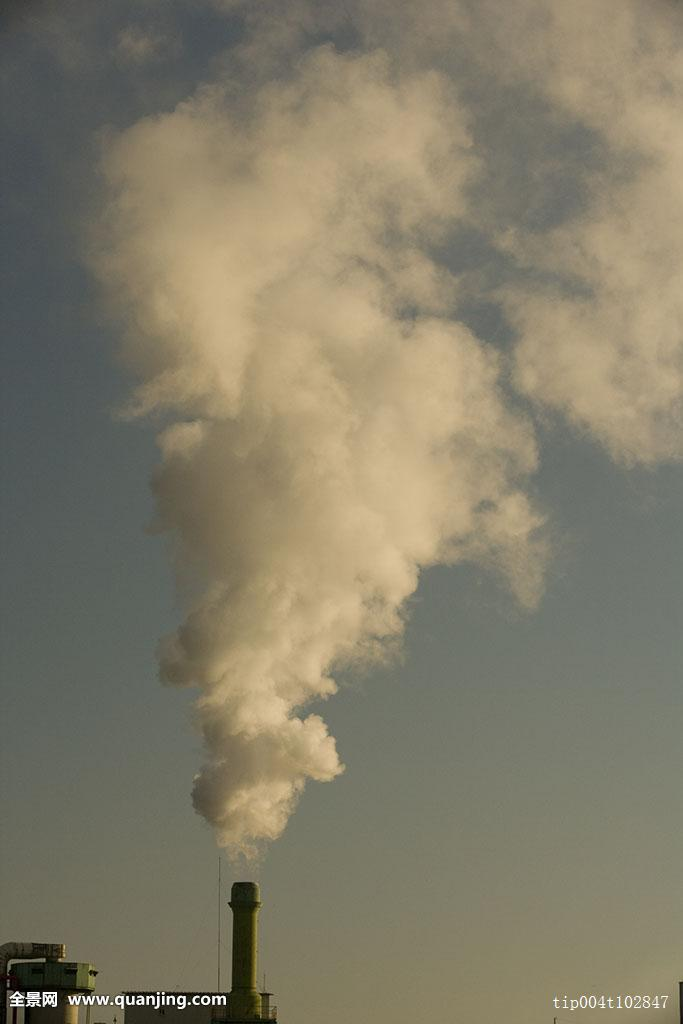dust: (120, 260, 507, 938)
